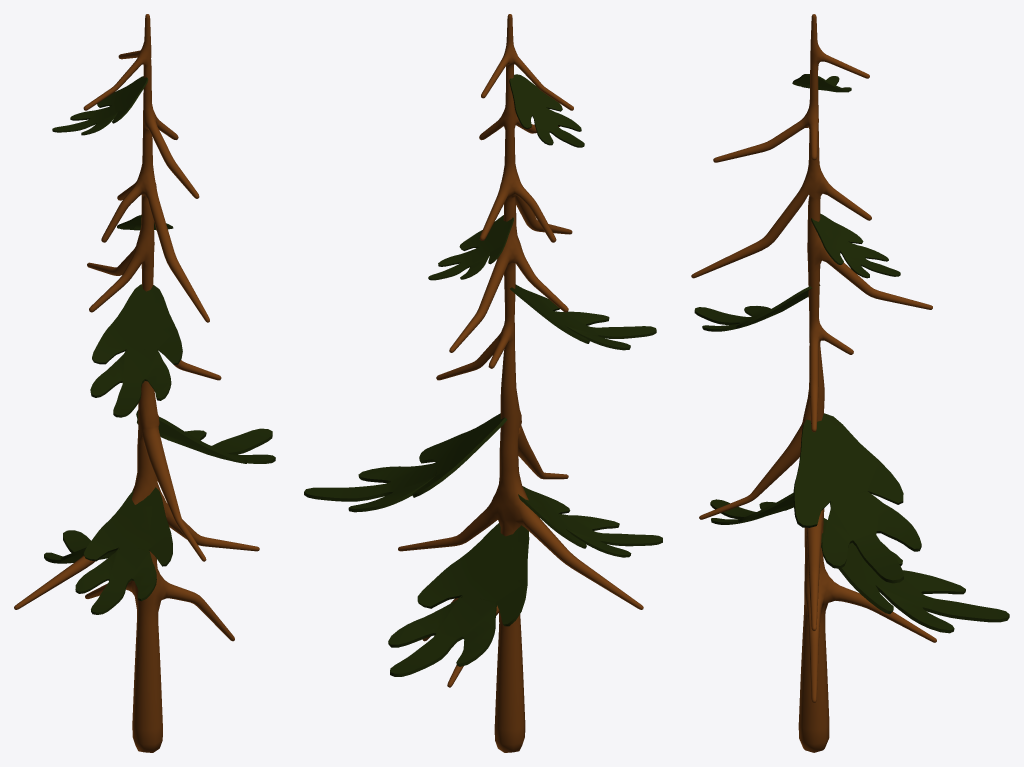
File: tree2.fbx
The picture shows the model from 3 angles, left to right: view 1: azimuth 30°, elevation 25°; view 2: azimuth 150°, elevation 25°; view 3: azimuth 270°, elevation 25°; orthographic projection.
Parts seen in each view (by area): view 1: tree2; view 2: tree2; view 3: tree2.
Boxes of the visible parts, x1,y1,x2,y2 form: tree2: (14, 14, 275, 752); tree2: (304, 14, 662, 752); tree2: (691, 14, 1009, 752).
Size of the model in its own units: 74.04 by 175 by 68.58.
